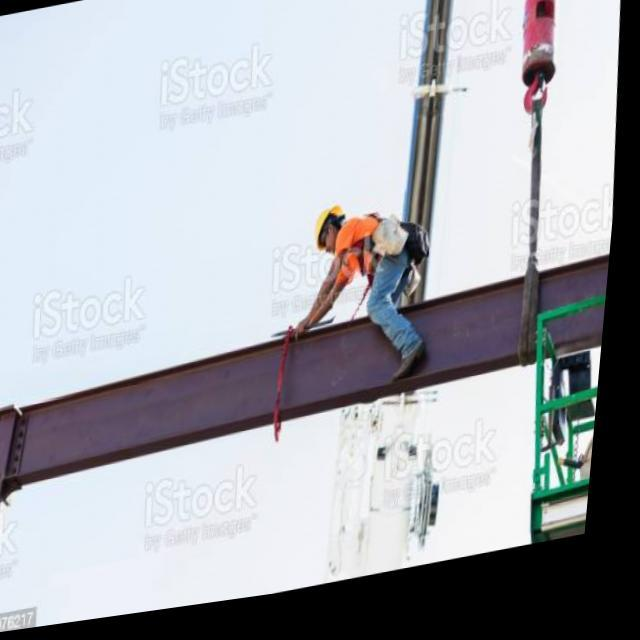belt: (339, 212, 407, 314)
